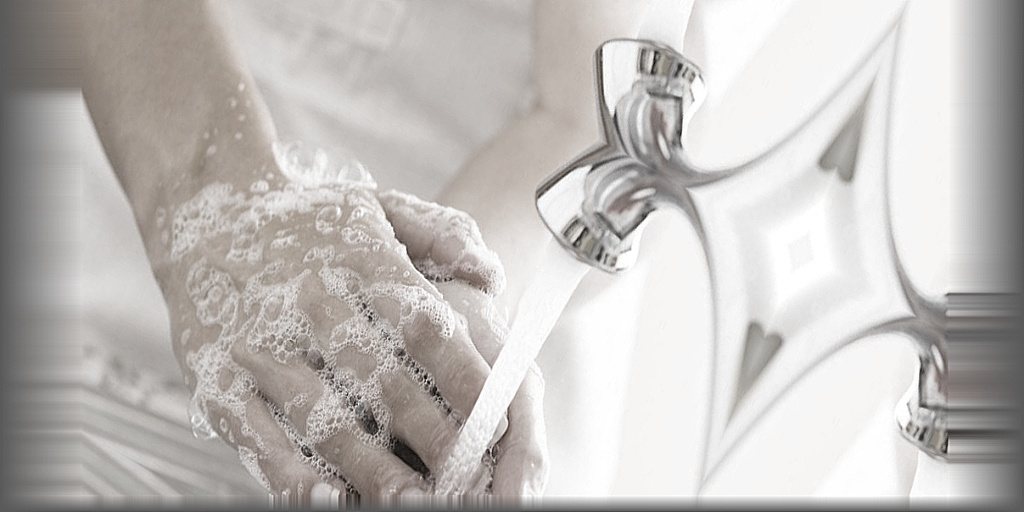washing hand: (57, 0, 691, 511)
